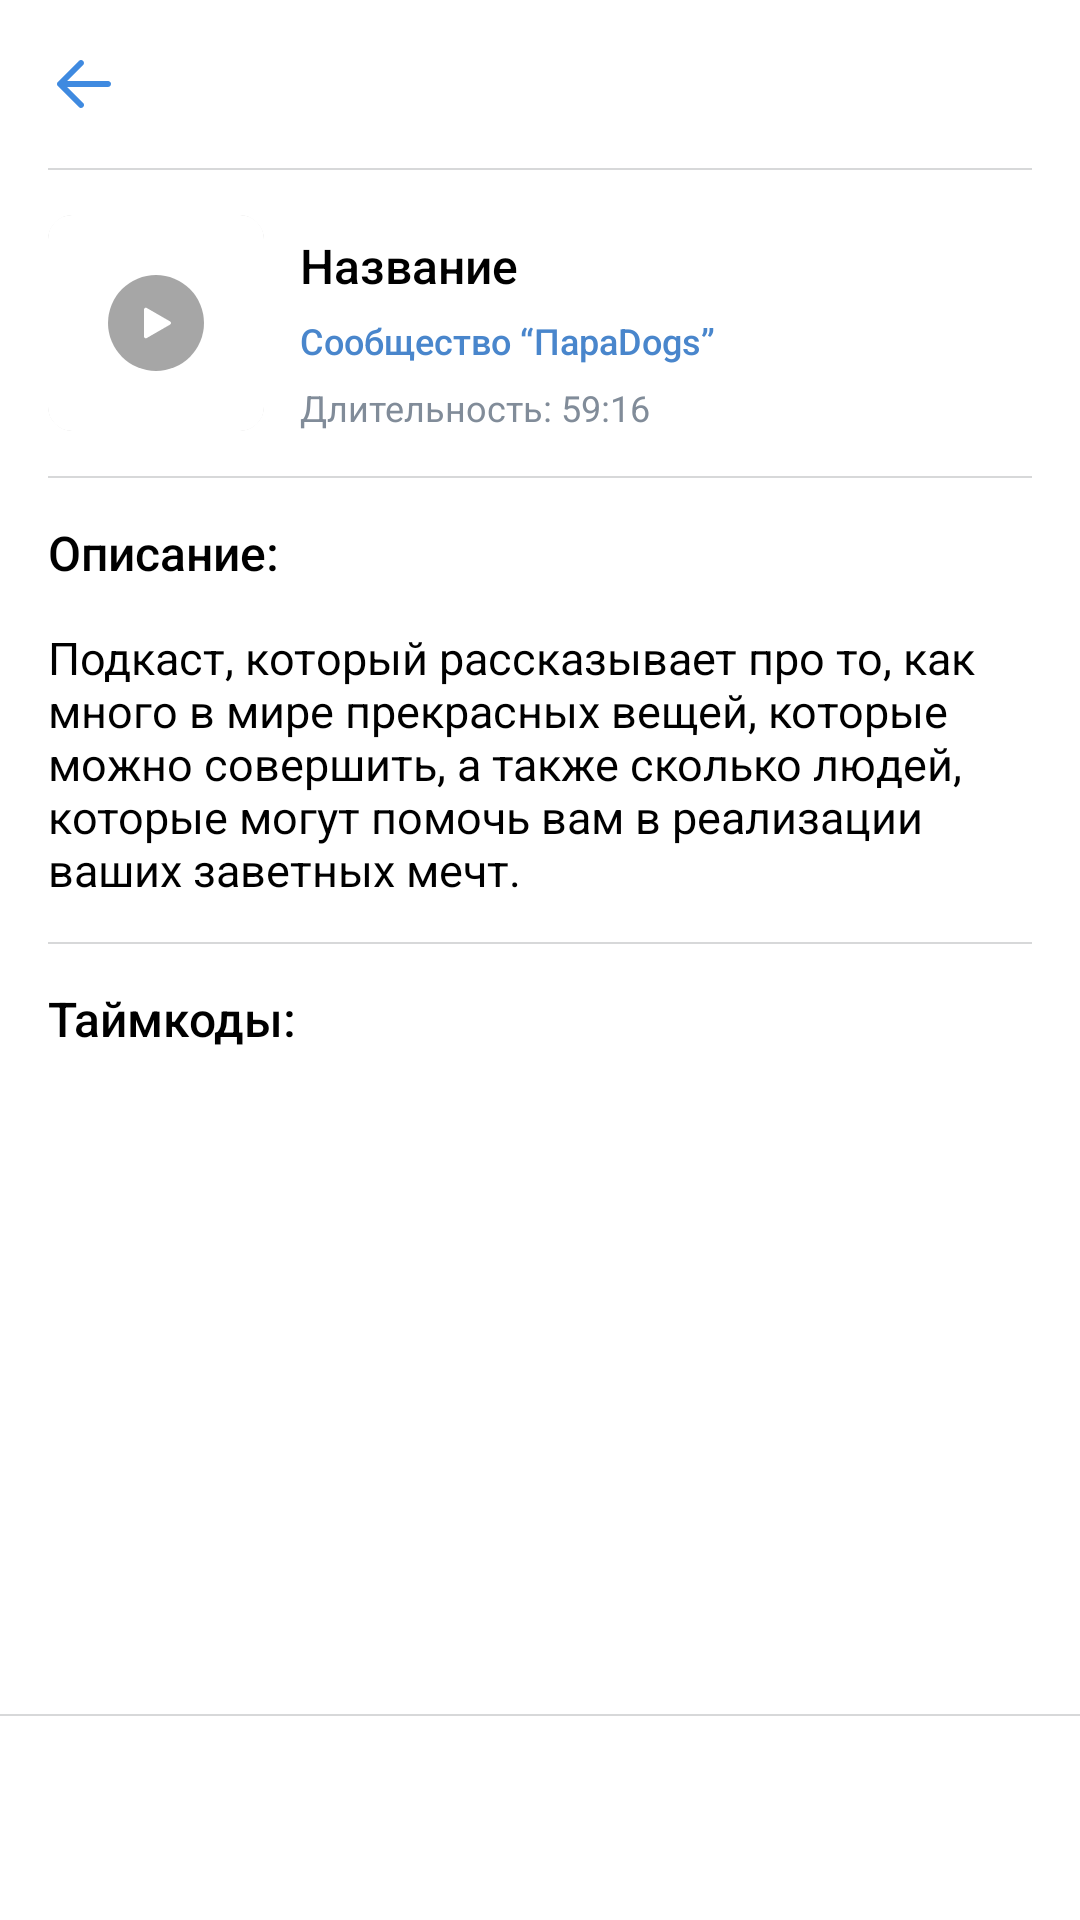

Screen size 1080px x 1920px. Icon name, then its box in pixels as (x1, y1, x2, y2):
back: (57, 60, 111, 108)
play podcast: (108, 275, 204, 371)
